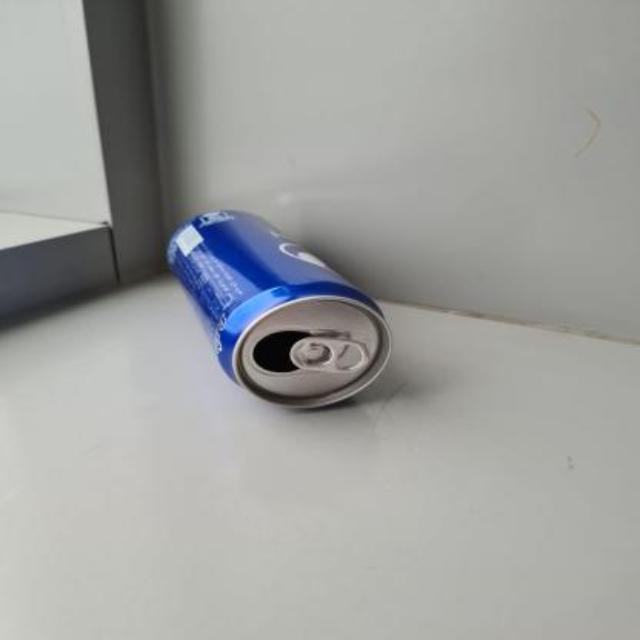metal: (166, 209, 388, 405)
